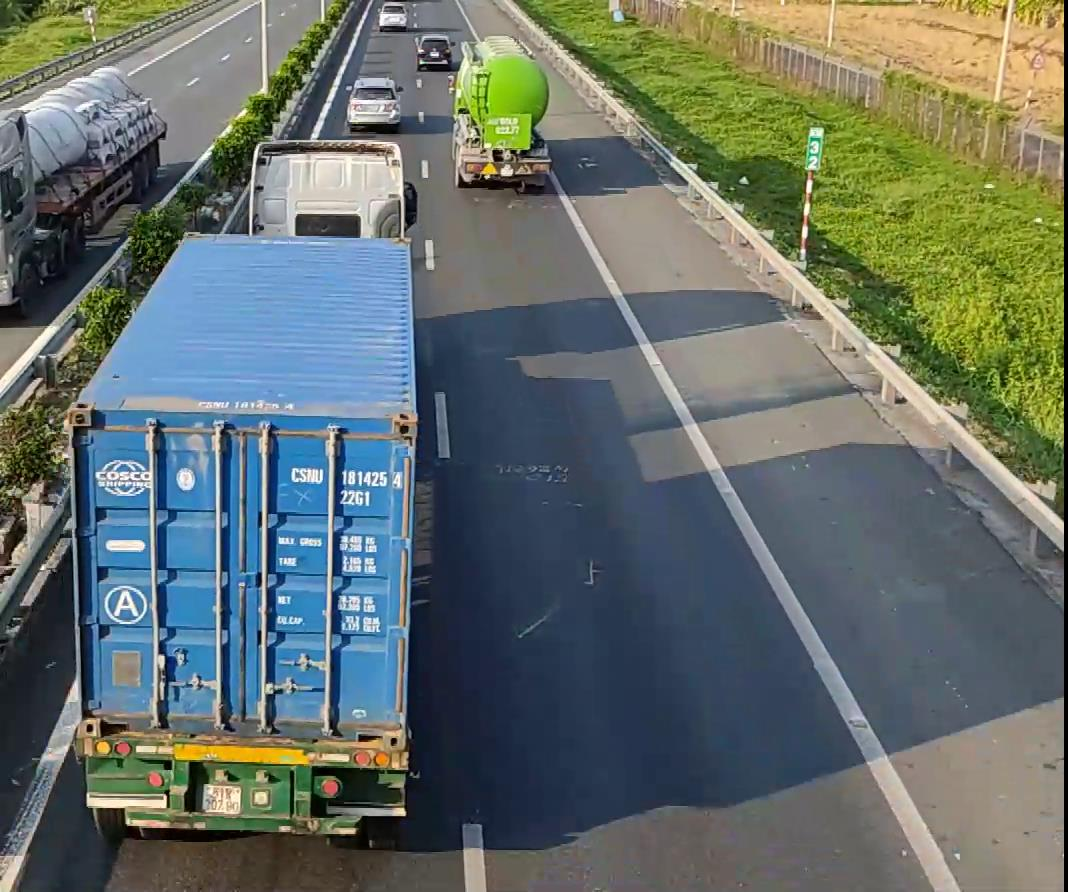container: (73, 137, 422, 843), (0, 67, 166, 318), (448, 35, 549, 191)
